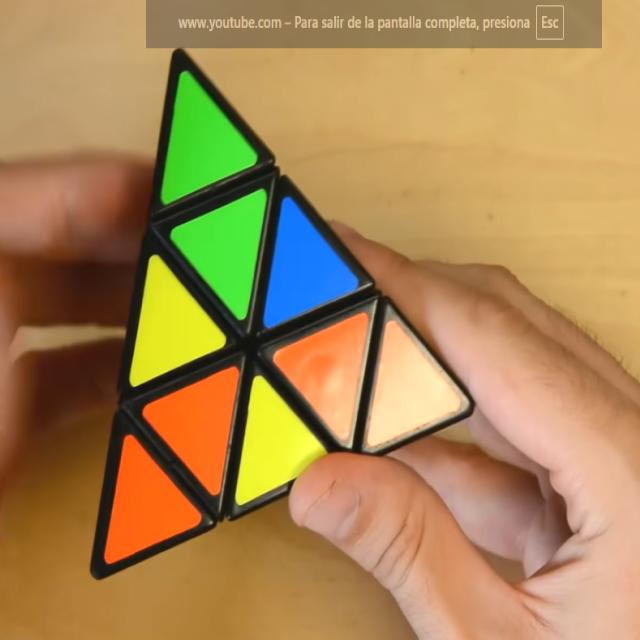Pyraminx: (91, 50, 474, 577)
